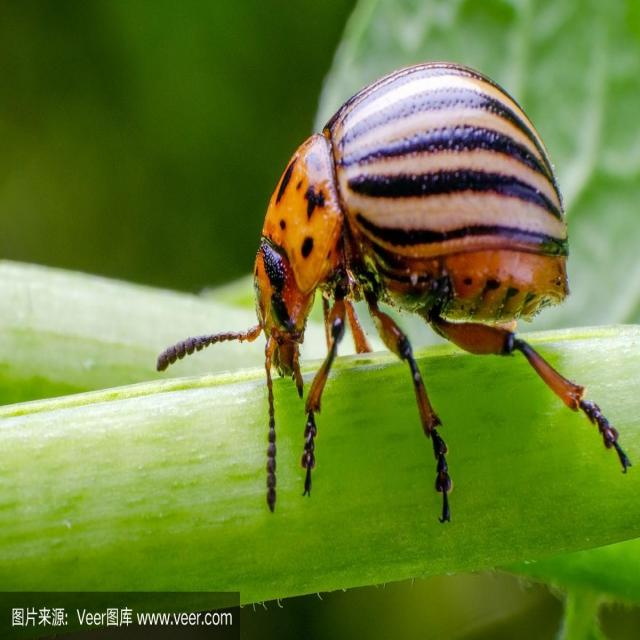ShuCaiHuaBanChong-Grown-: (231, 62, 580, 437)
